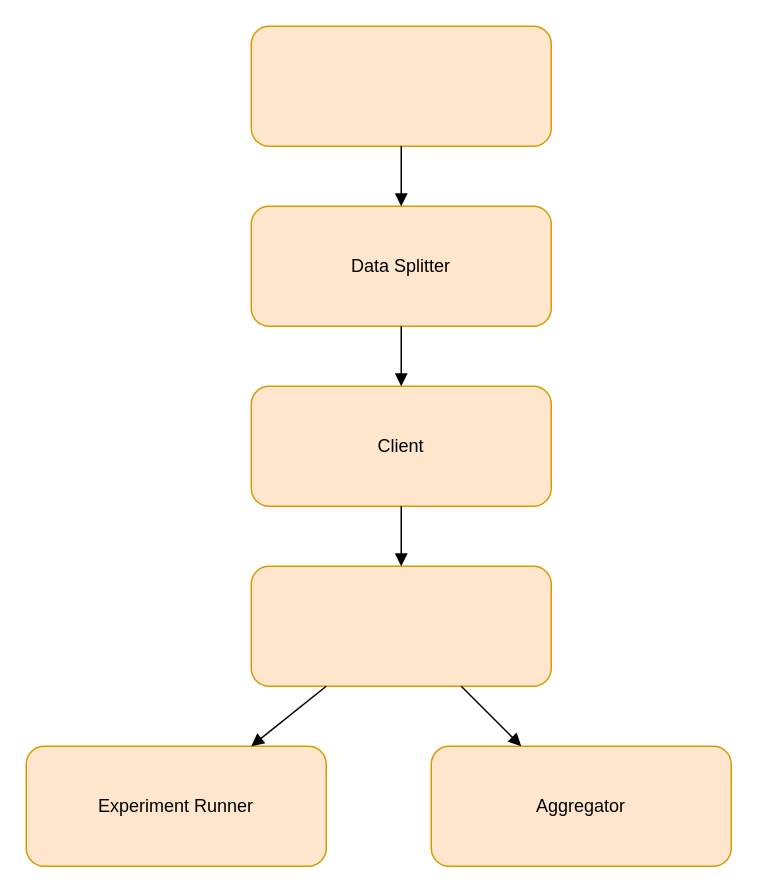
Some shapes in this 758 by 893 pixel diagram are drawn without their labels. Each missing label, with the box of its shape:
Data Preprocessor: (250, 25, 551, 146)
Server: (250, 565, 551, 686)
